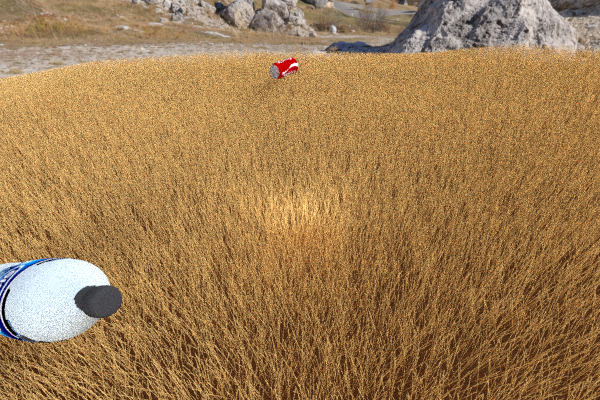Plastic Bottle: (0, 257, 122, 342), (163, 110, 209, 163), (269, 57, 298, 79)
